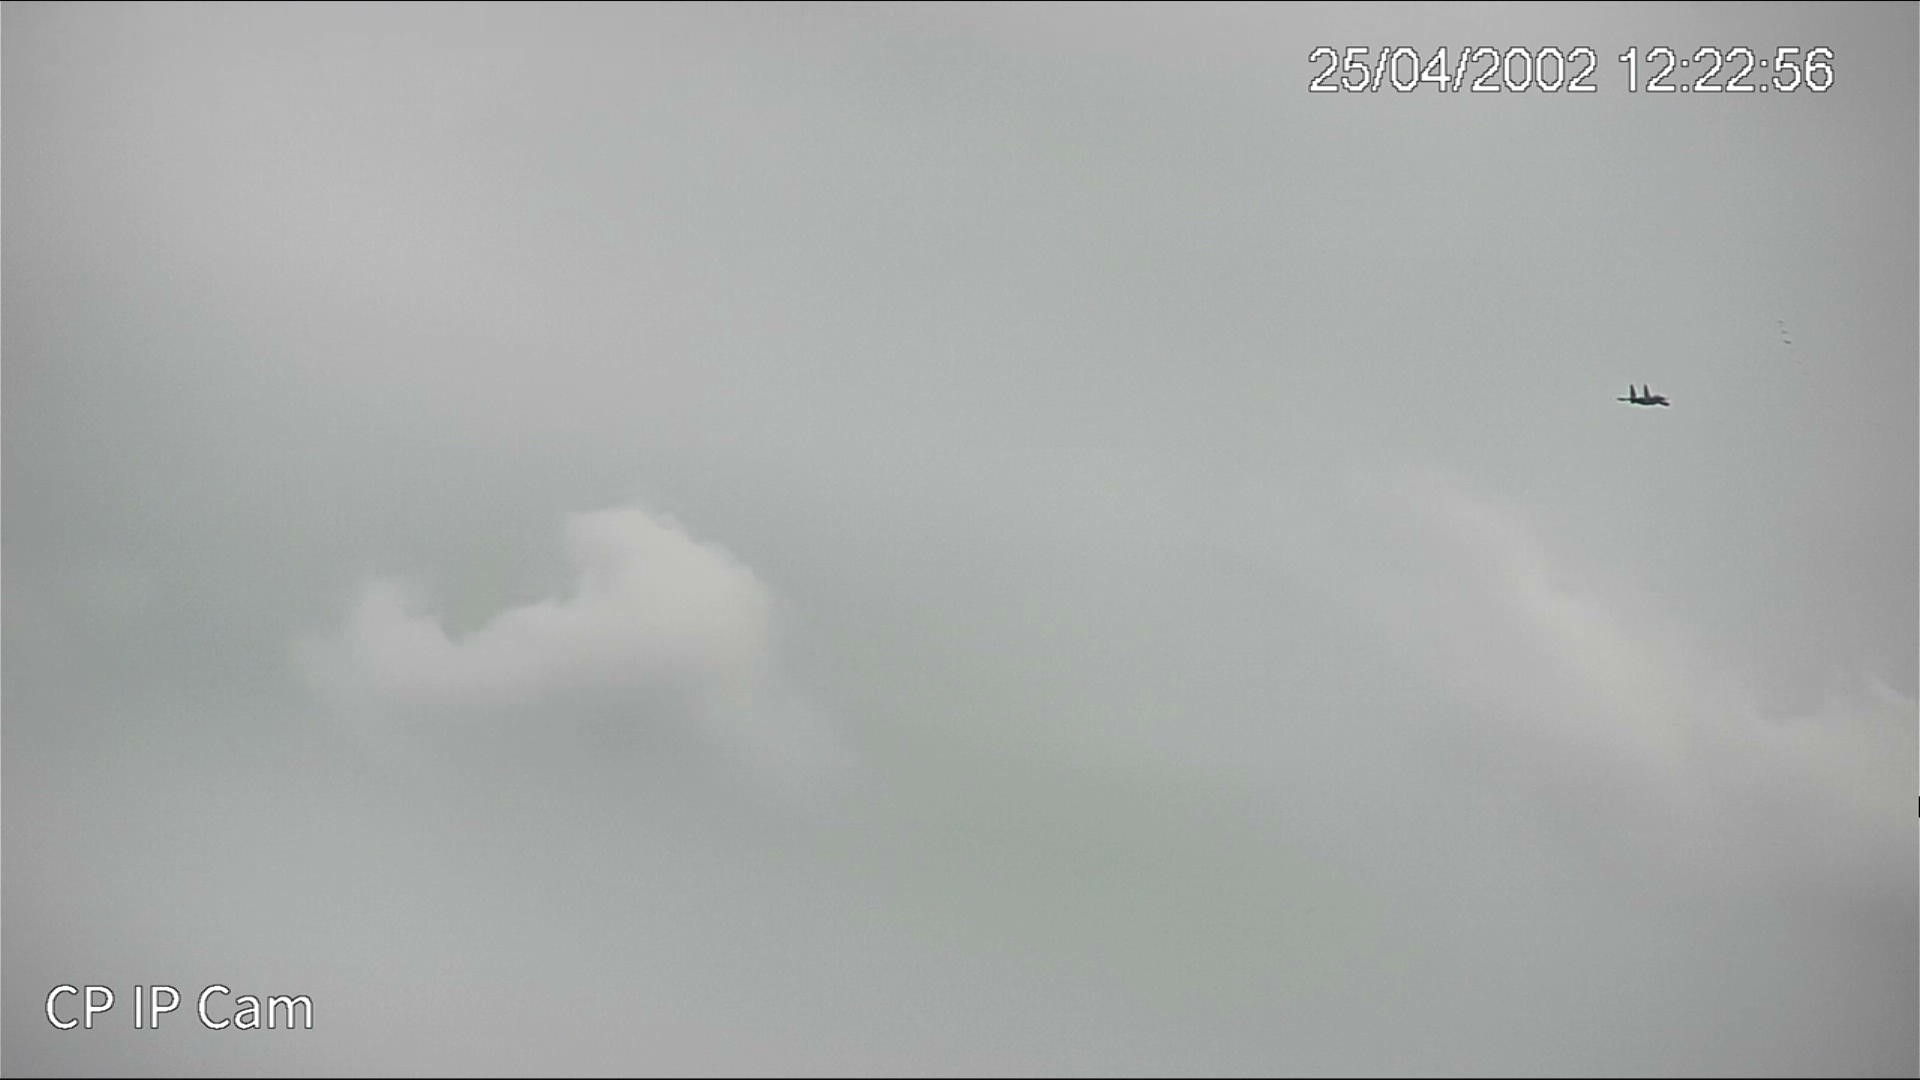SU_30: (1611, 382, 1669, 411)
